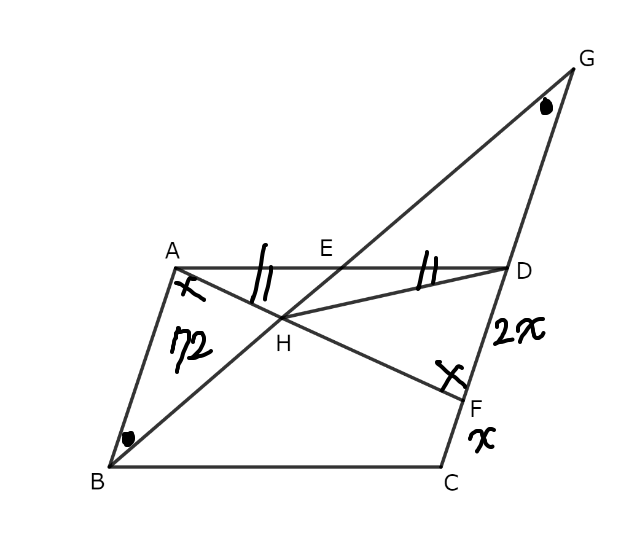Angle_Point: (115, 425, 137, 450), (533, 95, 557, 115)
Angle_x: (429, 353, 470, 393), (169, 272, 208, 301)
Edge_Dline: (249, 241, 276, 307), (414, 247, 440, 290)
